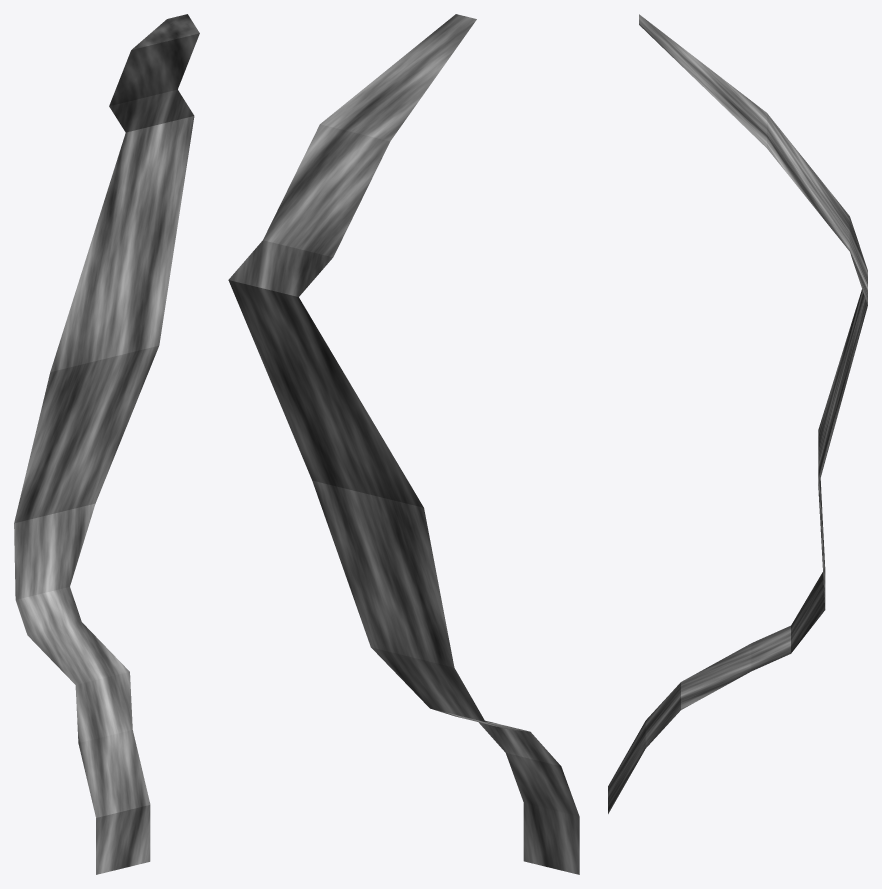
File: WindStripes.fbx
3 renders of one model, left to right at view 1: azimuth 30°, elevation 25°; view 2: azimuth 150°, elevation 25°; view 3: azimuth 270°, elevation 25°, orthographic. The views are drawn at different scales.
Visible parts, largest first — view 1: Plane; view 2: Plane; view 3: Plane.
Part boxes in pixels (box(x1,y1,x2,y2)): Plane: box(14, 14, 199, 874); Plane: box(228, 14, 579, 874); Plane: box(608, 14, 867, 813).
Size of the model in its own units: 8.15 by 28.96 by 7.77.
